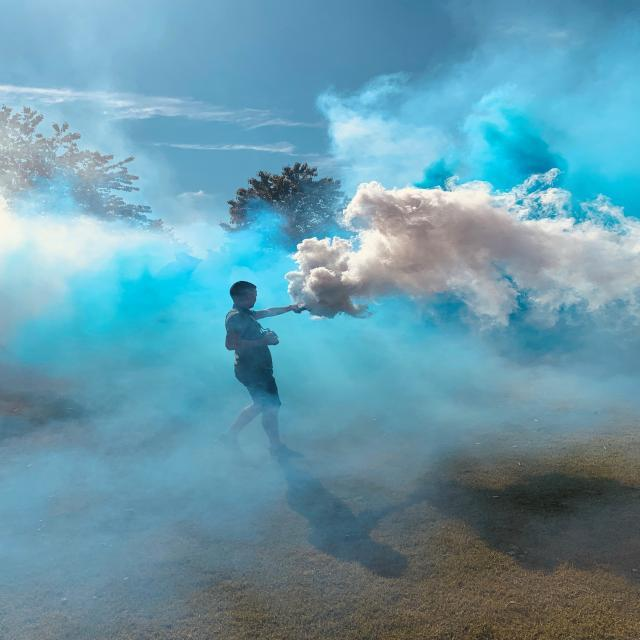Smoke: (312, 188, 632, 324)
